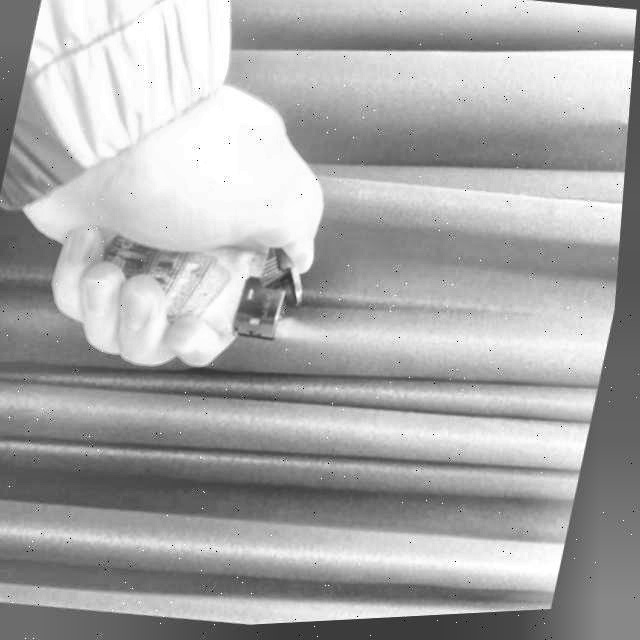Fire: (277, 316, 344, 354)
